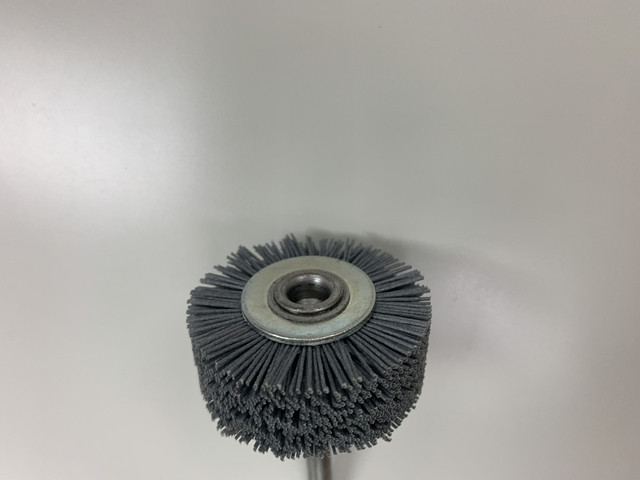Wheel Brush: (173, 210, 443, 480), (175, 209, 417, 480), (184, 230, 429, 465)
